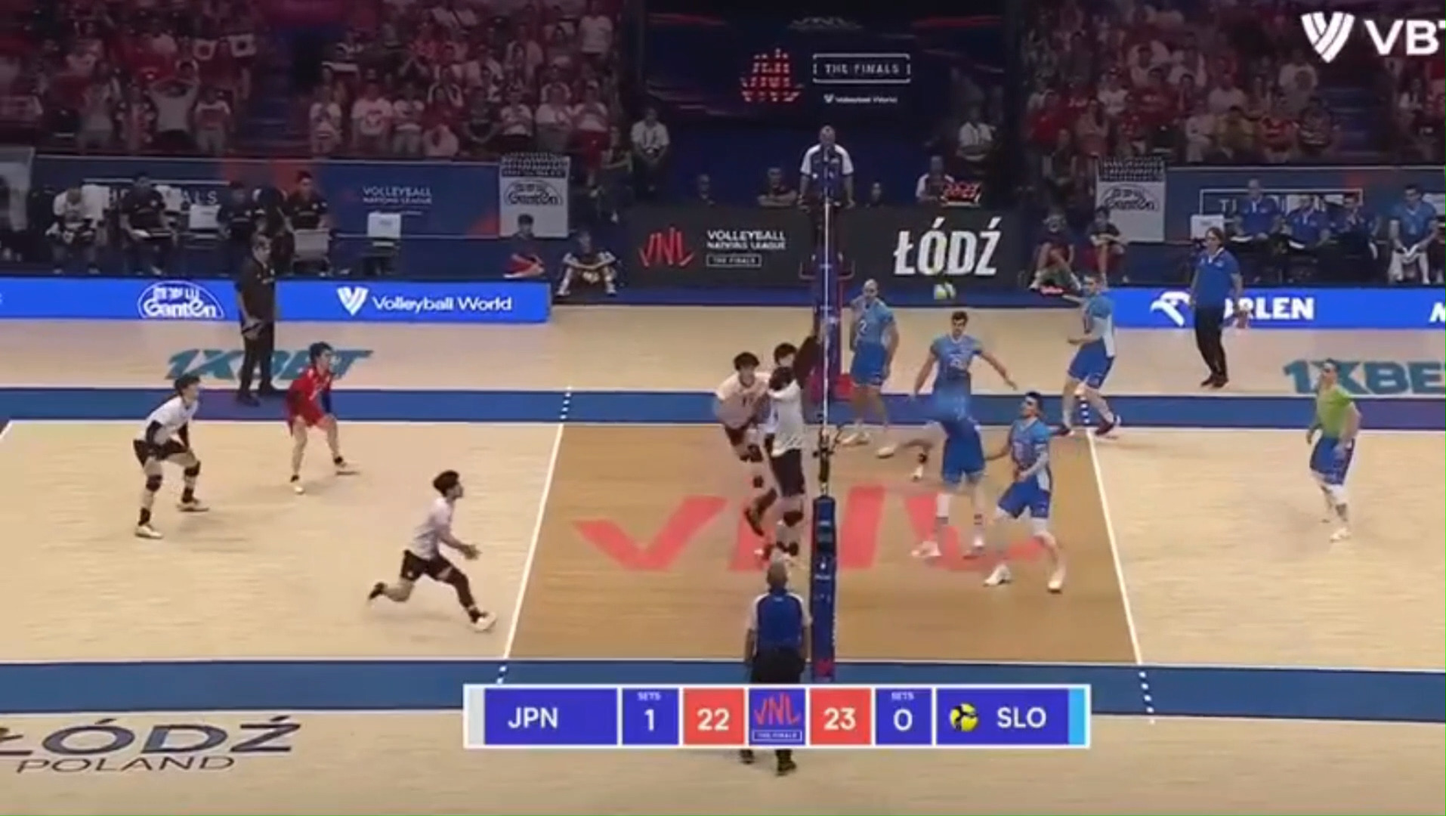ball: (932, 281, 957, 301)
player: (989, 391, 1066, 593), (916, 365, 985, 558), (1056, 274, 1118, 435), (1306, 360, 1360, 540), (840, 280, 898, 445), (913, 310, 1017, 396), (879, 436, 935, 481), (984, 543, 1012, 586)
player 1: (368, 470, 494, 630), (132, 375, 206, 539), (286, 342, 354, 493), (767, 365, 808, 558), (714, 351, 768, 497), (773, 336, 815, 372), (745, 487, 777, 534), (759, 408, 777, 457)
referee: (799, 125, 854, 284), (1189, 227, 1242, 388), (744, 560, 811, 683), (235, 233, 275, 403), (775, 749, 796, 774)
